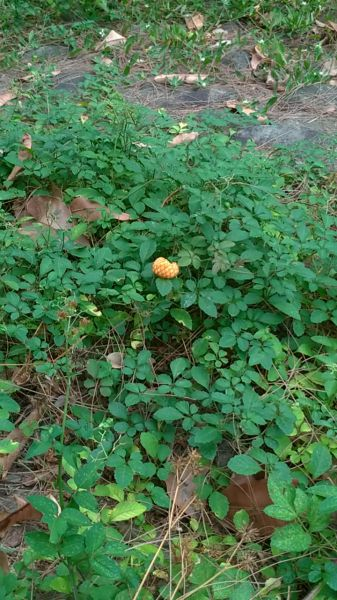eggs: (150, 257, 183, 284)
